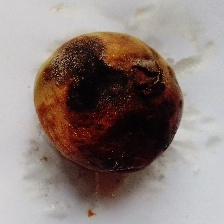guava: (26, 33, 192, 181)
